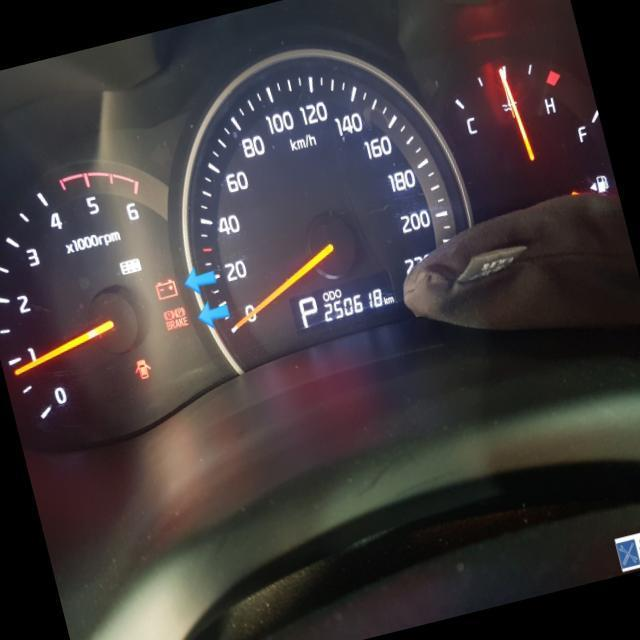Doors: (132, 356, 152, 380)
